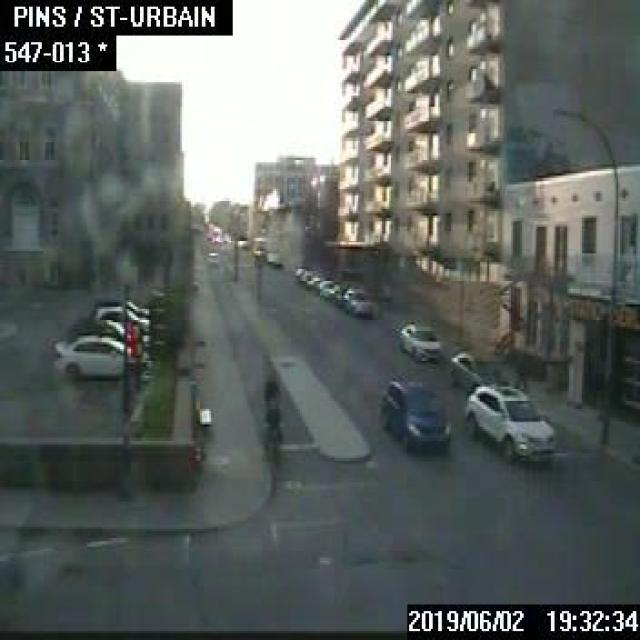cyclist: (264, 396, 282, 460), (264, 376, 280, 418)
vehicle: (462, 382, 556, 462), (378, 371, 451, 451), (53, 332, 148, 376), (450, 346, 526, 396), (70, 316, 148, 348), (398, 320, 442, 362), (93, 304, 149, 328), (101, 296, 148, 316), (344, 289, 372, 314), (335, 284, 361, 306), (318, 278, 340, 298), (300, 269, 316, 284), (306, 274, 322, 289), (293, 264, 305, 278), (206, 250, 218, 264), (252, 244, 264, 258)
